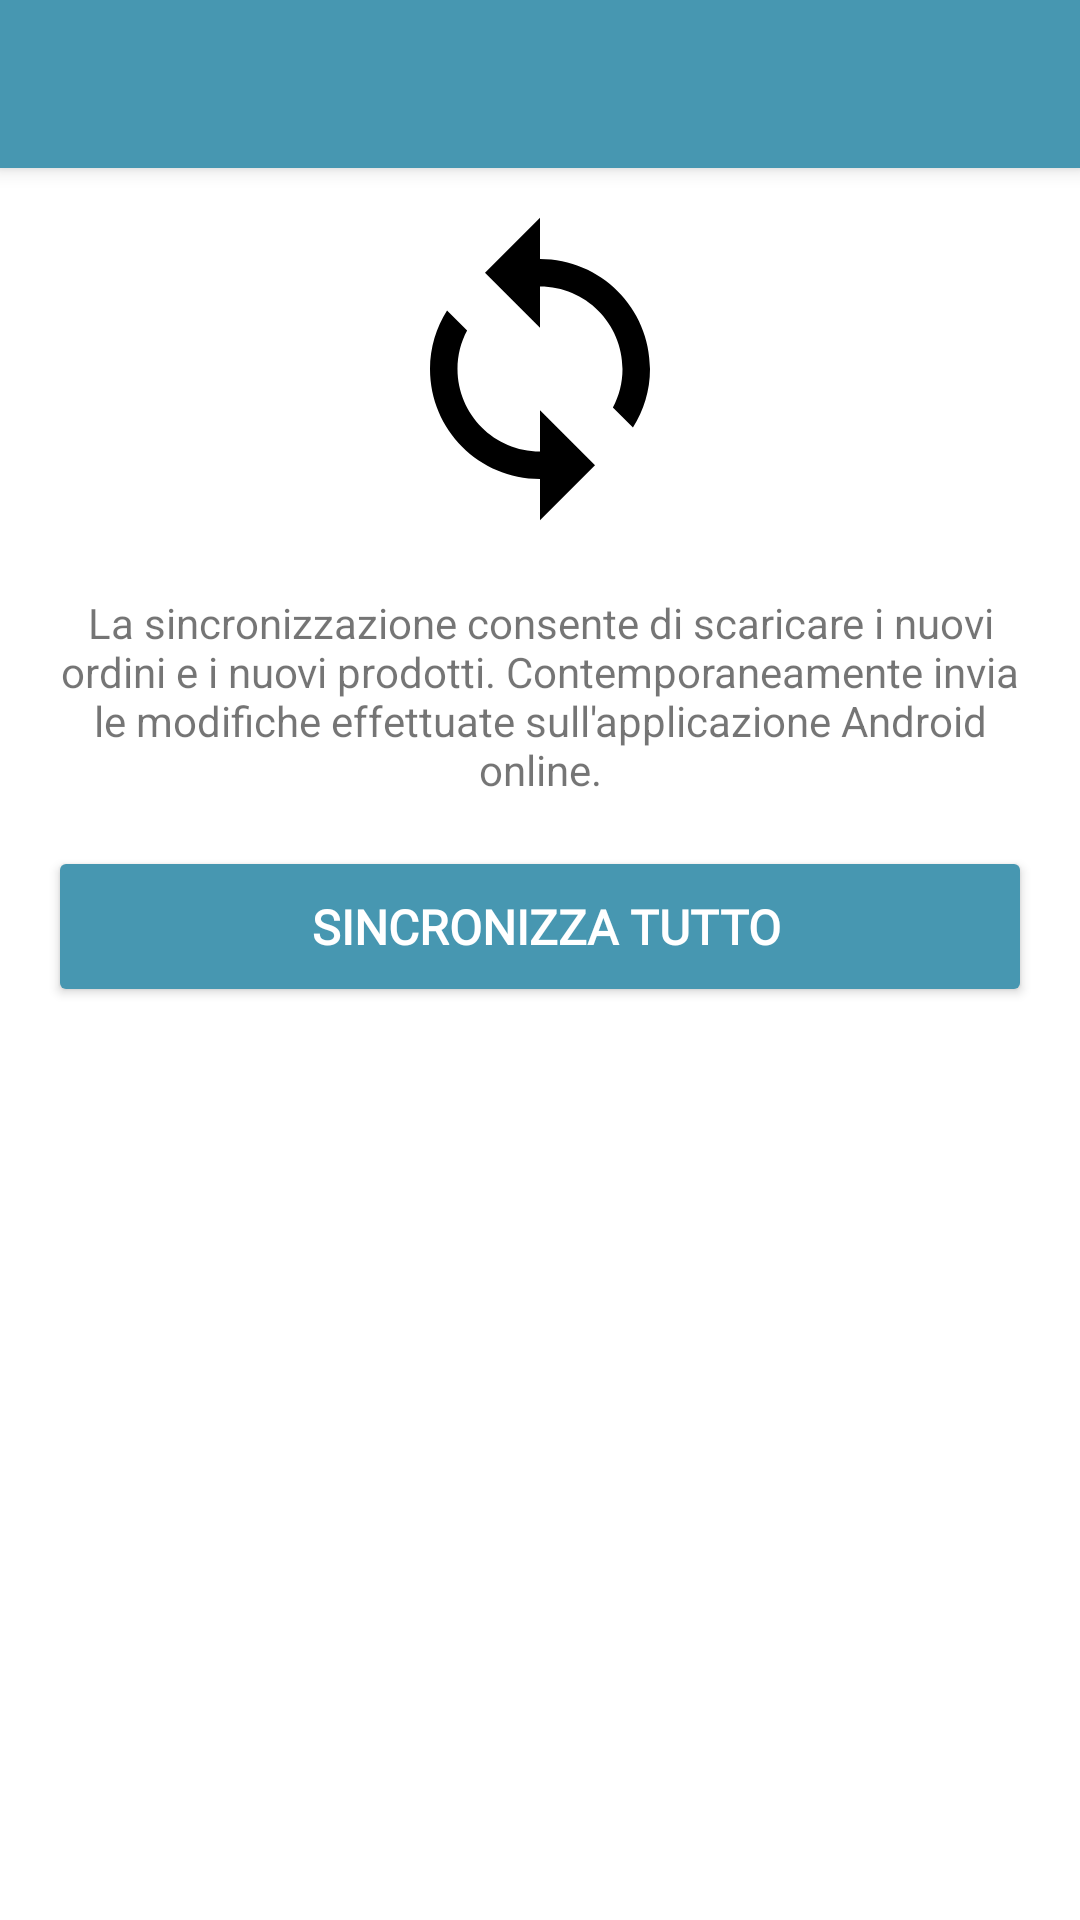

Screen size 1080 × 1920. Icon name, then its center in pixels as (x,y):
sync: (540,369)
